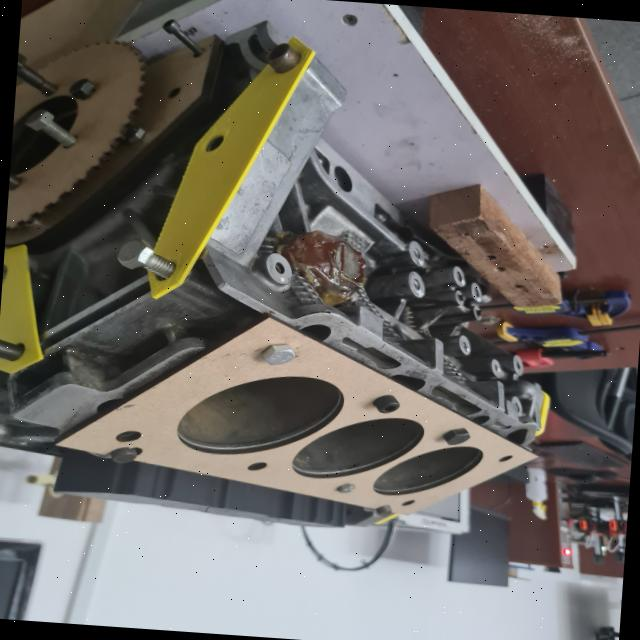tor_v1: (54, 317, 538, 515)
